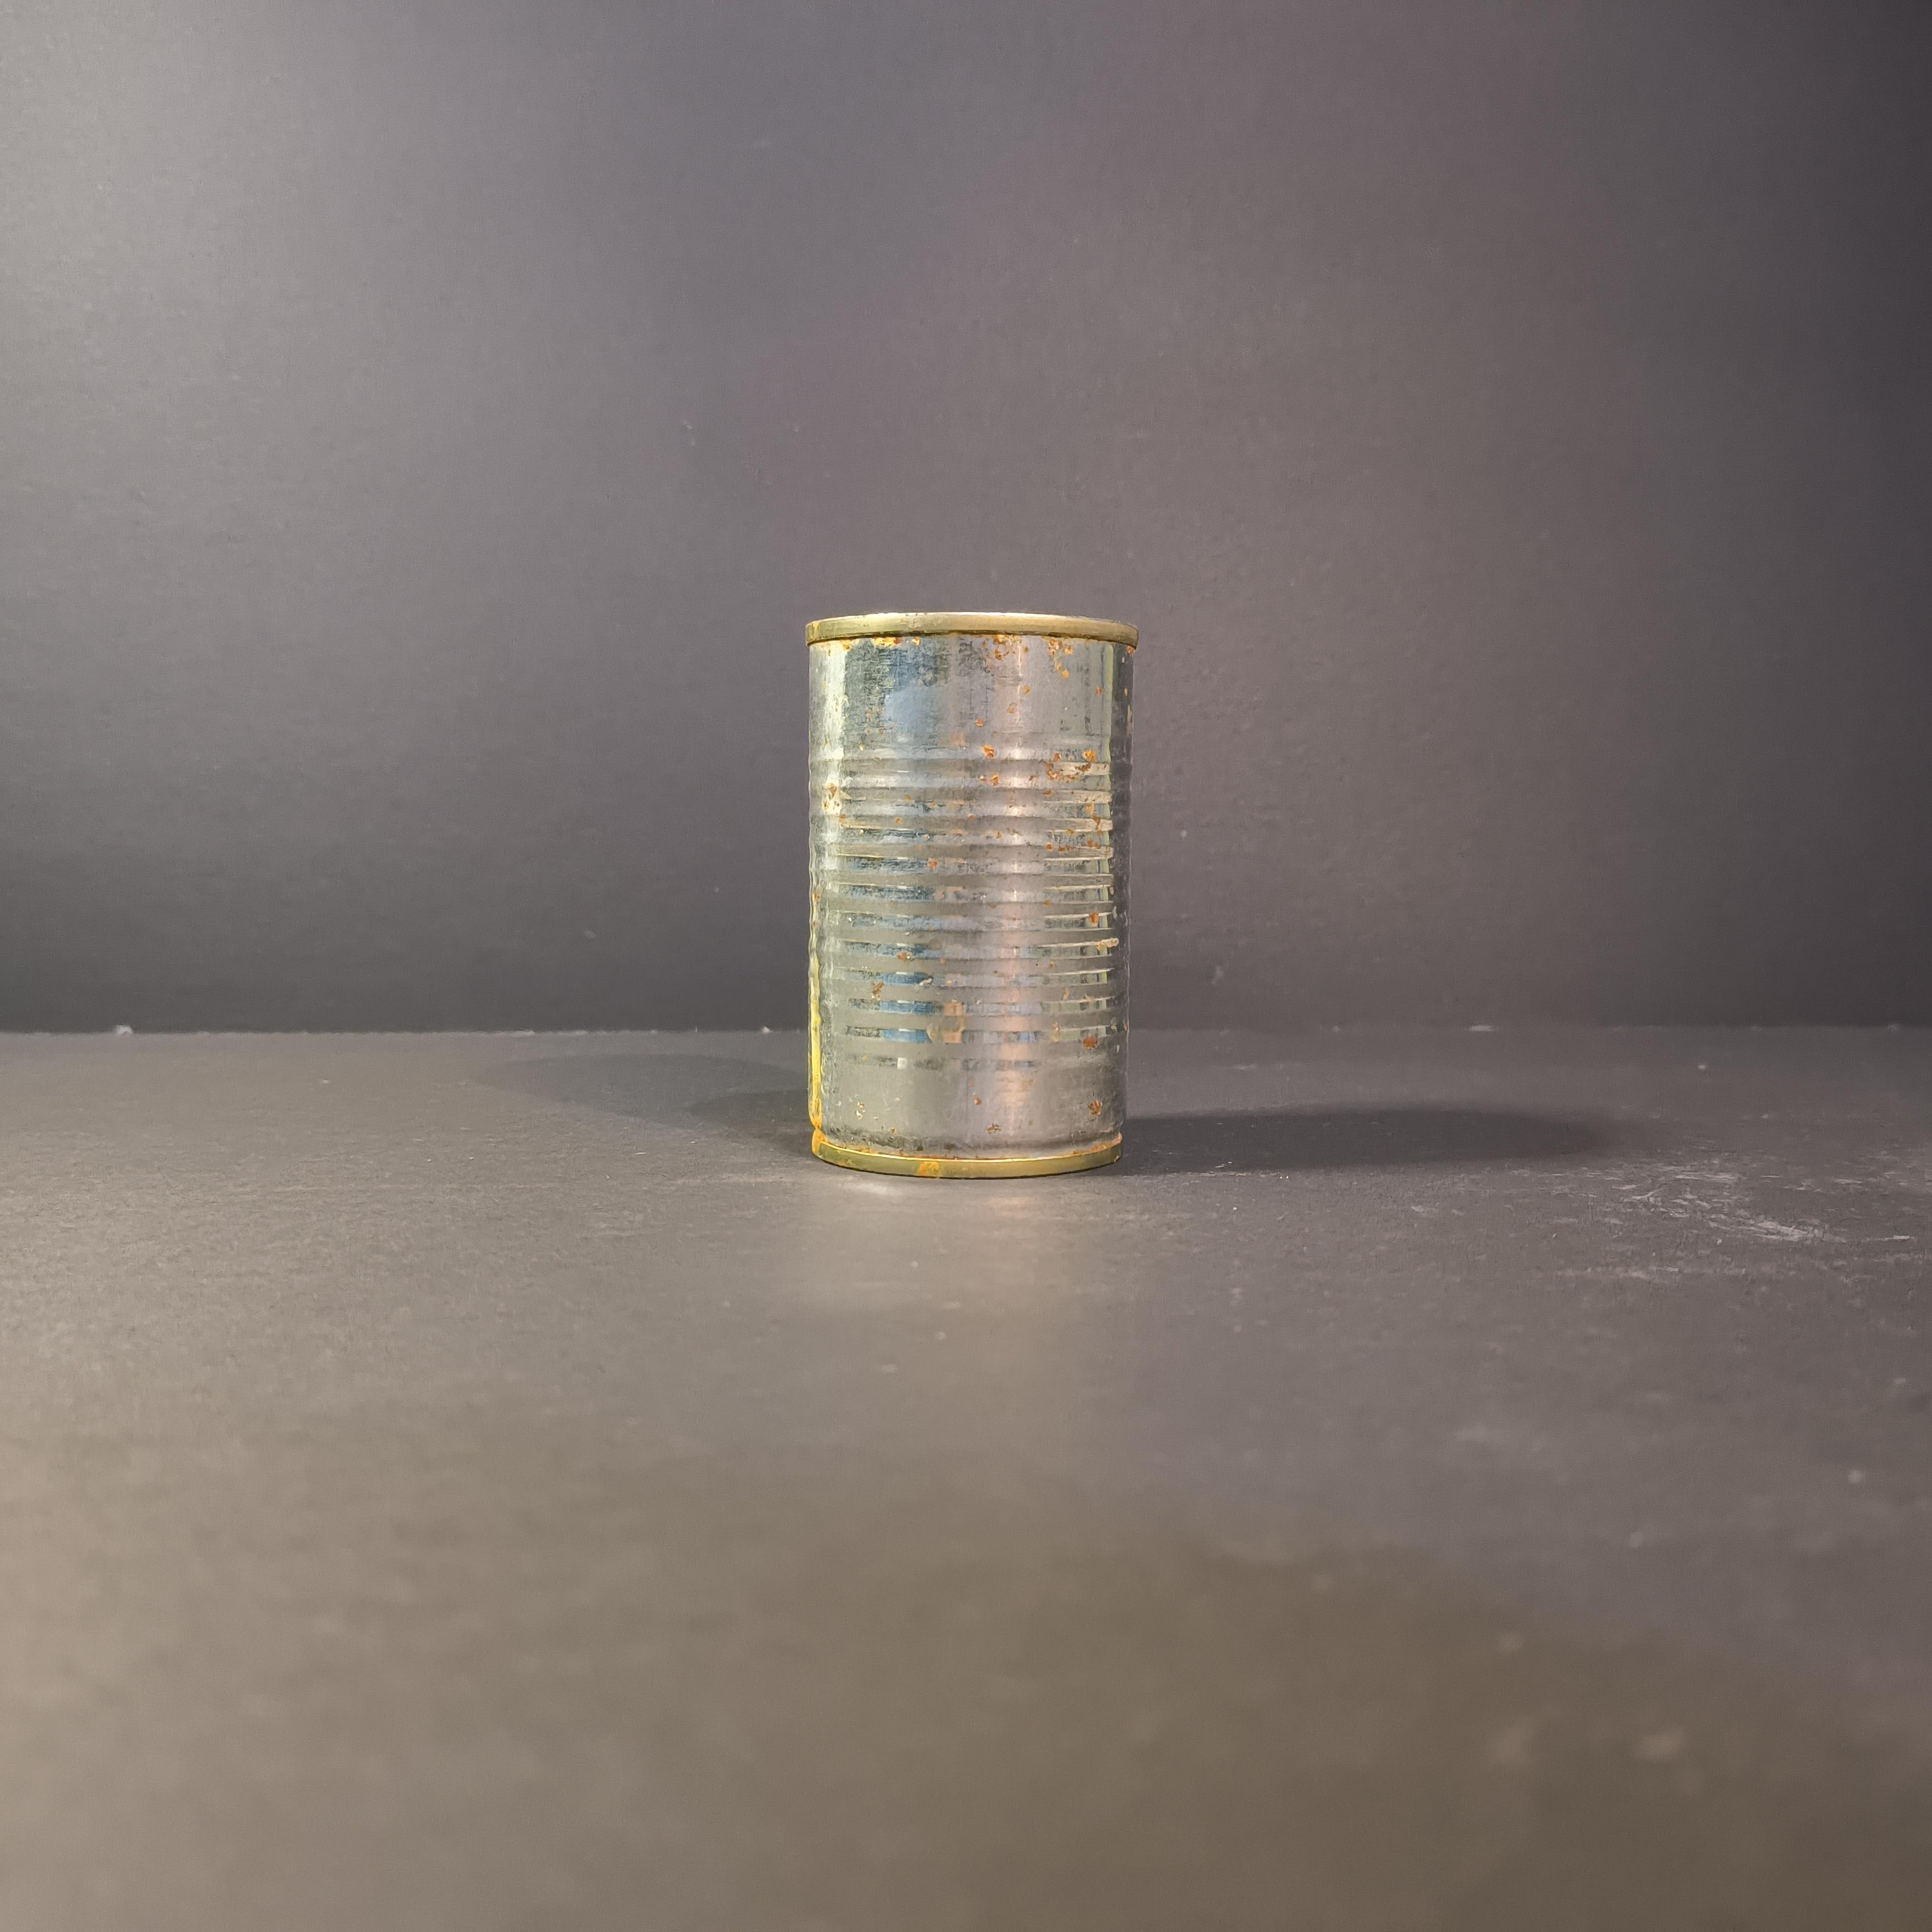Rusted: (784, 589, 1171, 1210)
